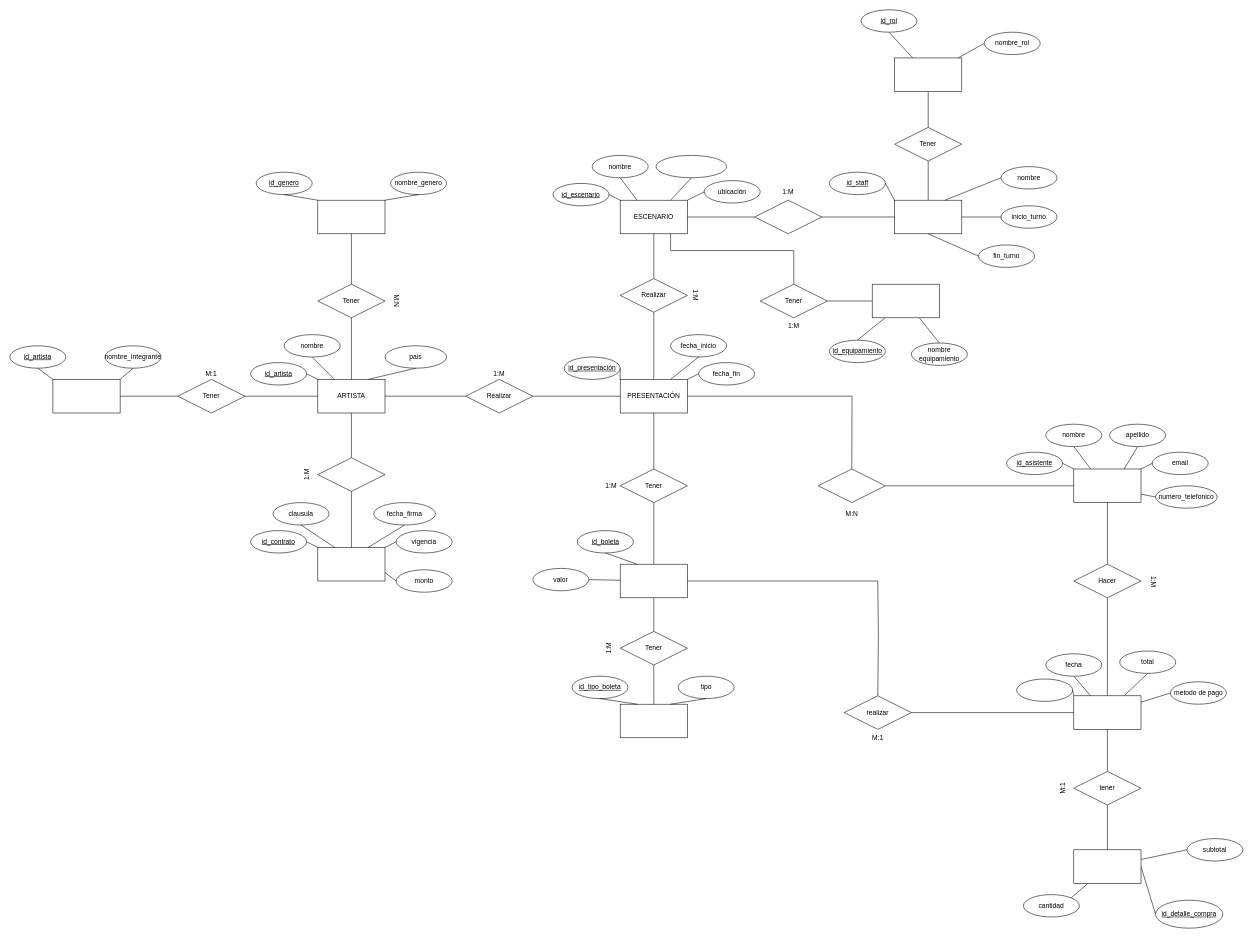
The diagram is 1253 pixels wide and 938 high, and some of its shapes have lost their labels. Each missing label, with the centre of its shape:
ASISTENTE: pixel 1107 485
Asistir: pixel 851 485
BOLETA: pixel 653 581
capacidad_maxima: pixel 691 166
COMPRA: pixel 1107 712
CONTRATO: pixel 351 564
DETALLE_COMPRA: pixel 1107 866
EQUIPAMIENTO: pixel 905 301
GENERO: pixel 351 217
id_compra: pixel 1044 689
INTEGRANTE: pixel 86 396
Pertenecer: pixel 351 474
ROL: pixel 928 74
STAFF: pixel 928 217
TIPO_BOLETA: pixel 653 721
Trabajar: pixel 788 217
